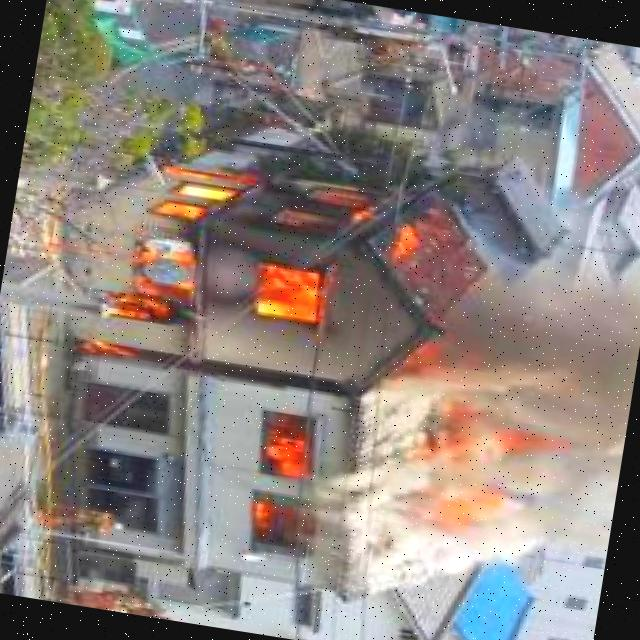fire: (100, 129, 487, 382), (402, 381, 591, 495), (246, 418, 322, 567), (416, 482, 516, 539)
